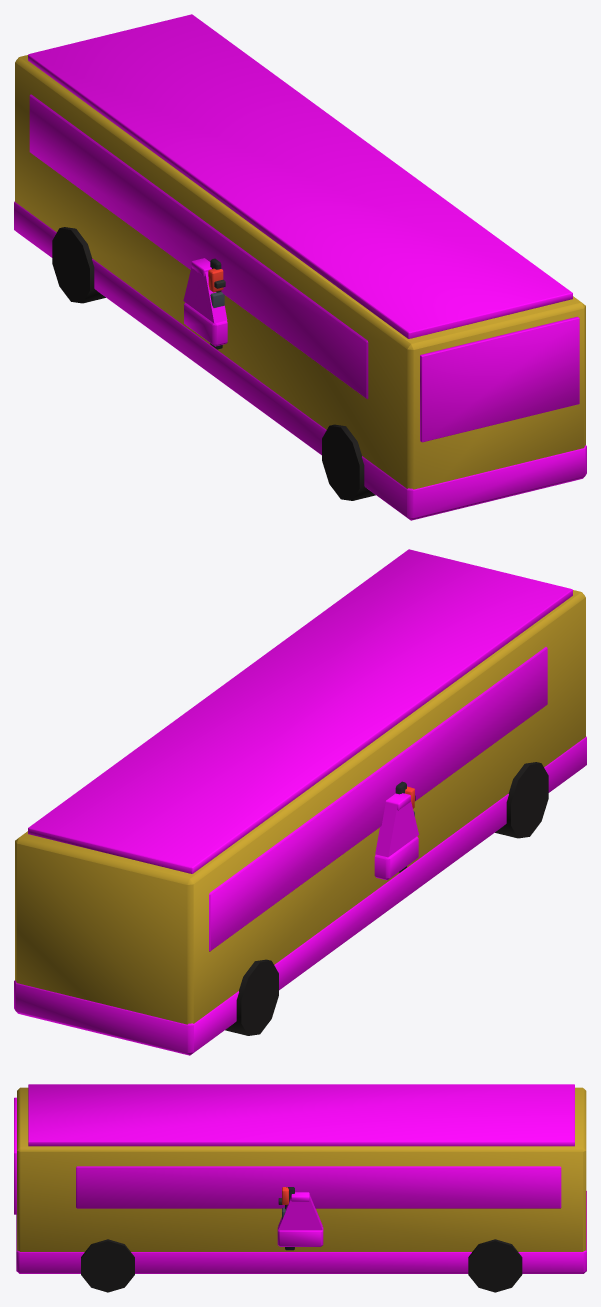
Rendered from DeadfallMeshes.obj.
3 views of the same model, one above another, from view 1: azimuth 30°, elevation 25°; view 2: azimuth 150°, elevation 25°; view 3: azimuth 270°, elevation 25° (orthographic). The views are drawn at different scales.
Parts seen in each view (by area): view 1: Bus, Barrier, Barricade; view 2: Bus, Barrier; view 3: Bus, Barrier, Barricade.
Part boxes in pixels (x1=…): Bus: x1=14, y1=14, x2=586, y2=520; Barrier: x1=183, y1=258, x2=227, y2=346; Barricade: x1=208, y1=258, x2=225, y2=349; Bus: x1=14, y1=549, x2=586, y2=1055; Barrier: x1=374, y1=793, x2=418, y2=880; Bus: x1=14, y1=1084, x2=586, y2=1292; Barrier: x1=277, y1=1192, x2=323, y2=1246; Barricade: x1=278, y1=1187, x2=294, y2=1250.
Size of the model in its own units: 9.06 by 8.52 by 30.18.
2 materials, 1 textured.
